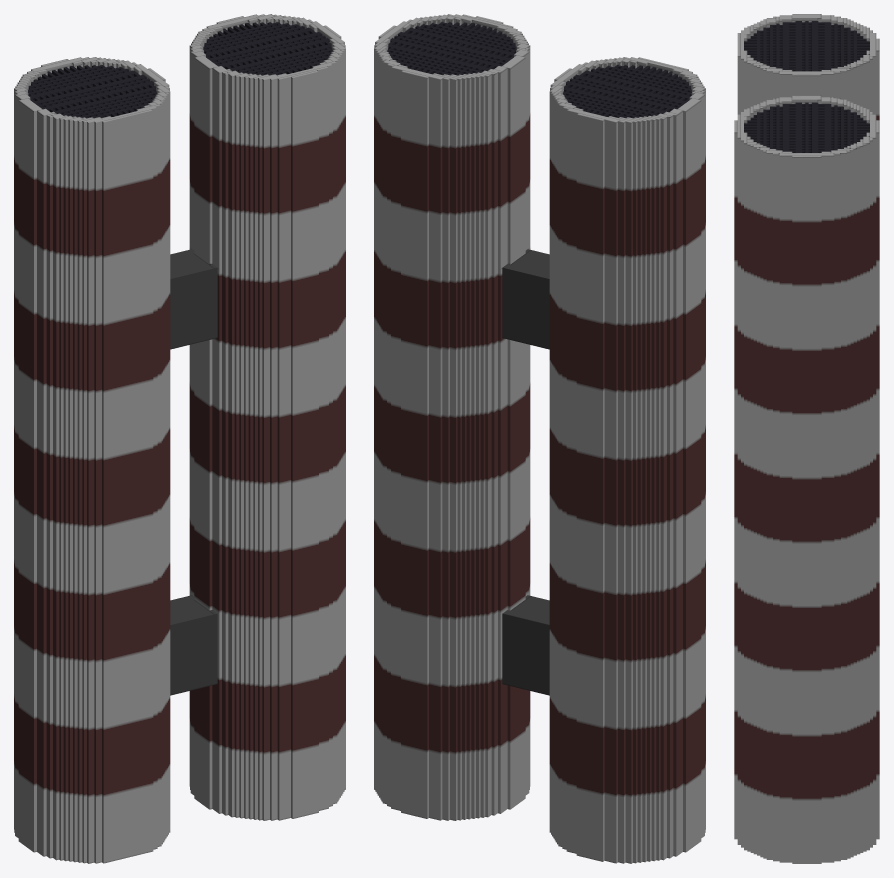
File: komin_doble.dae
The picture shows the model from 3 angles, left to right: view 1: azimuth 30°, elevation 25°; view 2: azimuth 150°, elevation 25°; view 3: azimuth 270°, elevation 25°; orthographic projection. The views are drawn at different scales.
Visible parts, largest first — view 1: Content; view 2: Content; view 3: Content.
Boxes of the visible parts, x1,y1,x2,y2 form: Content: (14,14,345,863); Content: (374,14,705,863); Content: (734,14,879,863).
Bounding box in the file's own units: 105 × 242 × 45.
1 material, 1 textured.
